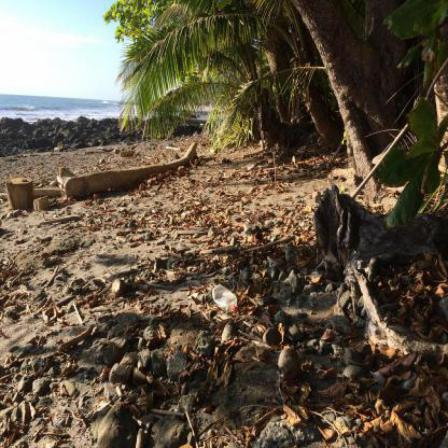Bottle: (213, 286, 238, 313)
Bottle cap: (234, 307, 238, 312)
